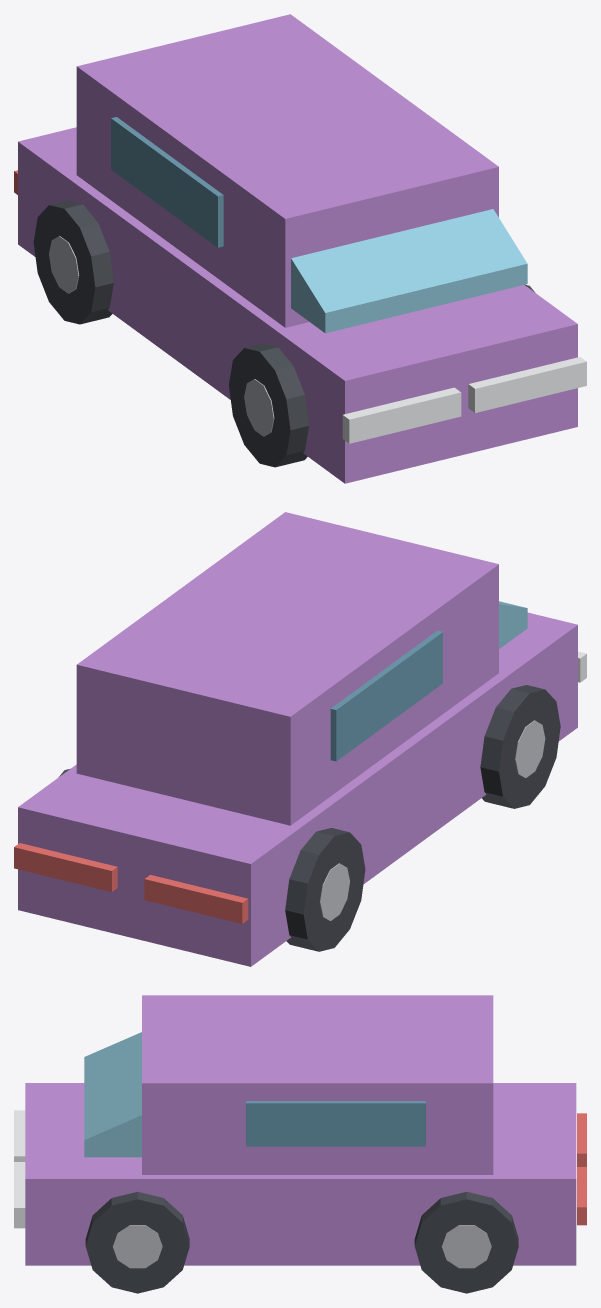
Rendered from traffic_minivan_purple.glb.
3 views of the same model, one above another, from view 1: azimuth 30°, elevation 25°; view 2: azimuth 150°, elevation 25°; view 3: azimuth 270°, elevation 25° (orthographic). The views are drawn at different scales.
Visible parts, largest first — view 1: minivan_roof_1, minivan_body_0, windshield_wedge_2, wheel_RL_9, wheel_FL_5, sideglass_L_3, headlight_L_13, headlight_R_14, rim_RL_10, rim_FL_6; view 2: minivan_roof_1, minivan_body_0, wheel_FL_5, wheel_RL_9, sideglass_L_3, taillight_L_15, taillight_R_16, rim_RL_10, rim_FL_6, windshield_wedge_2; view 3: minivan_roof_1, minivan_body_0, sideglass_R_4, wheel_RR_11, wheel_FR_7, windshield_wedge_2, rim_RR_12, rim_FR_8, headlight_R_14, headlight_L_13, taillight_R_16, taillight_L_15.
Boxes of the visible parts, box(x1,y1,x2,y2) form: minivan_roof_1: box(76, 14, 498, 327); minivan_body_0: box(18, 127, 577, 483); windshield_wedge_2: box(291, 209, 527, 333); wheel_RL_9: box(33, 200, 113, 324); wheel_FL_5: box(229, 343, 308, 467); sideglass_L_3: box(111, 117, 223, 247); headlight_L_13: box(342, 387, 461, 443); headlight_R_14: box(468, 357, 586, 412); rim_RL_10: box(49, 236, 79, 293); rim_FL_6: box(244, 379, 274, 436); minivan_roof_1: box(76, 512, 498, 825); minivan_body_0: box(18, 612, 577, 966); wheel_FL_5: box(480, 685, 560, 808); wheel_RL_9: box(285, 828, 365, 951); sideglass_L_3: box(330, 630, 442, 761); taillight_L_15: box(144, 875, 248, 923); taillight_R_16: box(14, 843, 117, 892); rim_RL_10: box(320, 863, 349, 920); rim_FL_6: box(515, 720, 545, 777); windshield_wedge_2: box(499, 601, 527, 648); minivan_roof_1: box(142, 995, 493, 1174); minivan_body_0: box(25, 1083, 576, 1265); sideglass_R_4: box(246, 1101, 425, 1146); wheel_RR_11: box(414, 1191, 518, 1293); wheel_FR_7: box(85, 1191, 189, 1293); windshield_wedge_2: box(84, 1032, 141, 1157); rim_RR_12: box(441, 1225, 491, 1268); rim_FR_8: box(112, 1225, 162, 1268); headlight_R_14: box(14, 1162, 25, 1228); headlight_L_13: box(14, 1110, 25, 1161); taillight_R_16: box(577, 1167, 586, 1225); taillight_L_15: box(577, 1113, 586, 1166).
Size of the model in its own units: 1.88 by 1.56 by 4.08.
